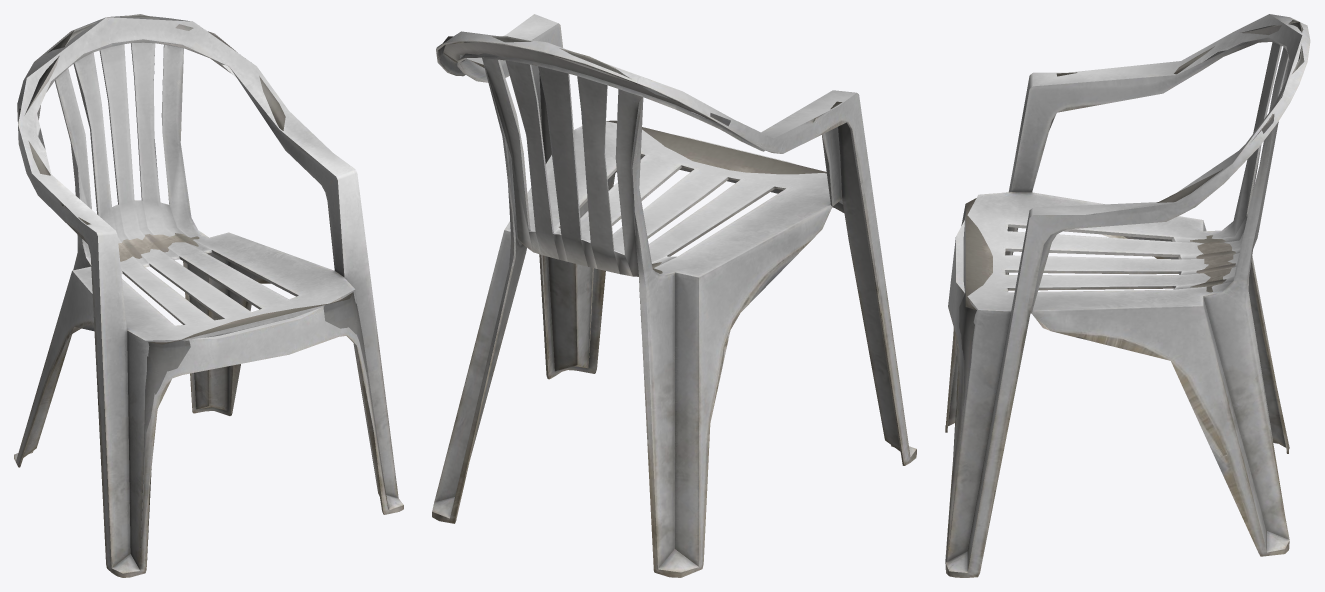
Rendered from ph_chair.glb.
The picture shows the model from 3 angles, left to right: view 1: azimuth 30°, elevation 25°; view 2: azimuth 150°, elevation 25°; view 3: azimuth 270°, elevation 25°; orthographic projection. The views are drawn at different scales.
Parts seen in each view (by area): view 1: plastic_monobloc_chair_01; view 2: plastic_monobloc_chair_01; view 3: plastic_monobloc_chair_01.
Part boxes in pixels (left/top/right/bottom): plastic_monobloc_chair_01: left=14, top=14, right=403, bottom=577; plastic_monobloc_chair_01: left=432, top=14, right=916, bottom=577; plastic_monobloc_chair_01: left=945, top=14, right=1310, bottom=577.
Size of the model in its own units: 0.6419 by 0.8798 by 0.6276.
Materials: 1 (1 with a texture image).
